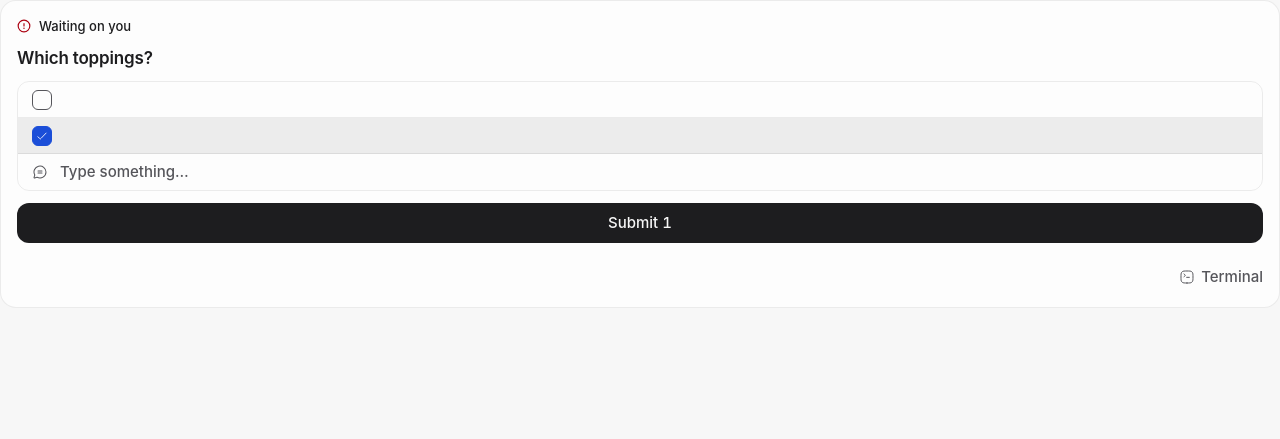
Scenario: QuestionCard › keeps one commit on the card while a reply is written: its Send, not the multi-select's Submit
Expected: the button "Submit 1" is shown, left=17, top=203, right=1263, bottom=243
Click the button "Type something…" at (124, 172), box left=18, top=154, right=1262, bottom=190
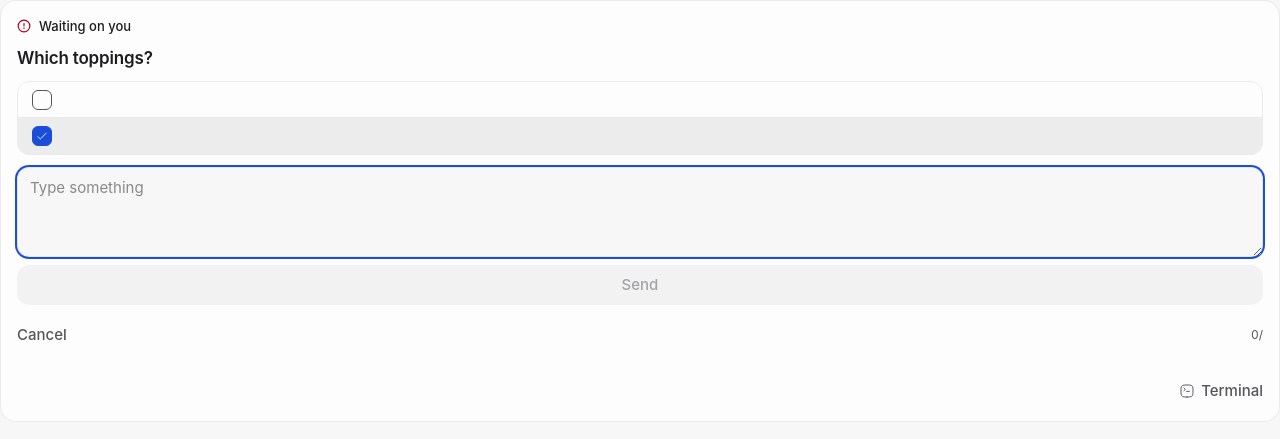
Type "Pineapple" into the text box labelled "Type something" at (640, 212), box left=17, top=167, right=1263, bottom=257
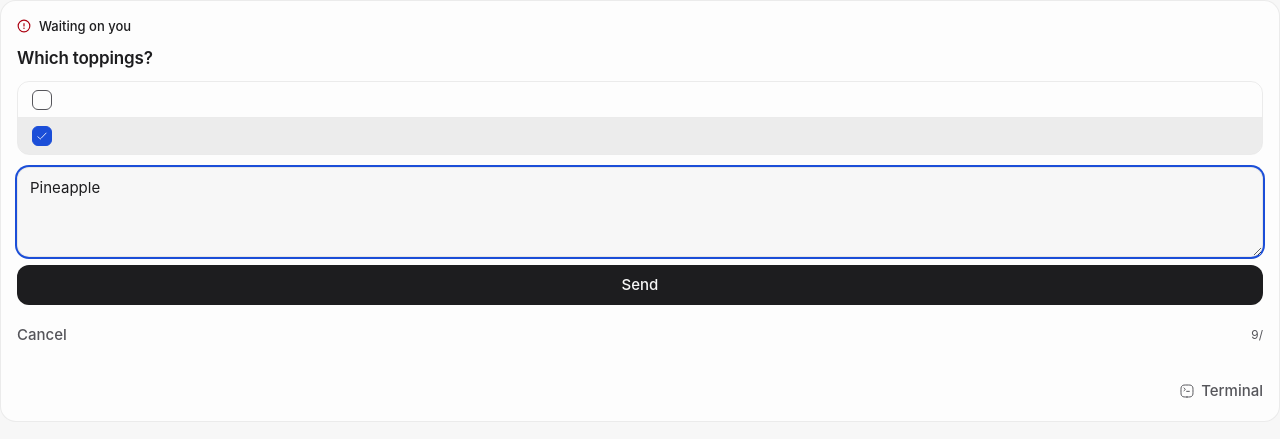
Expected: the button "Submit" is not shown
Click the button "Cancel" at (42, 335), box left=9, top=313, right=75, bottom=357
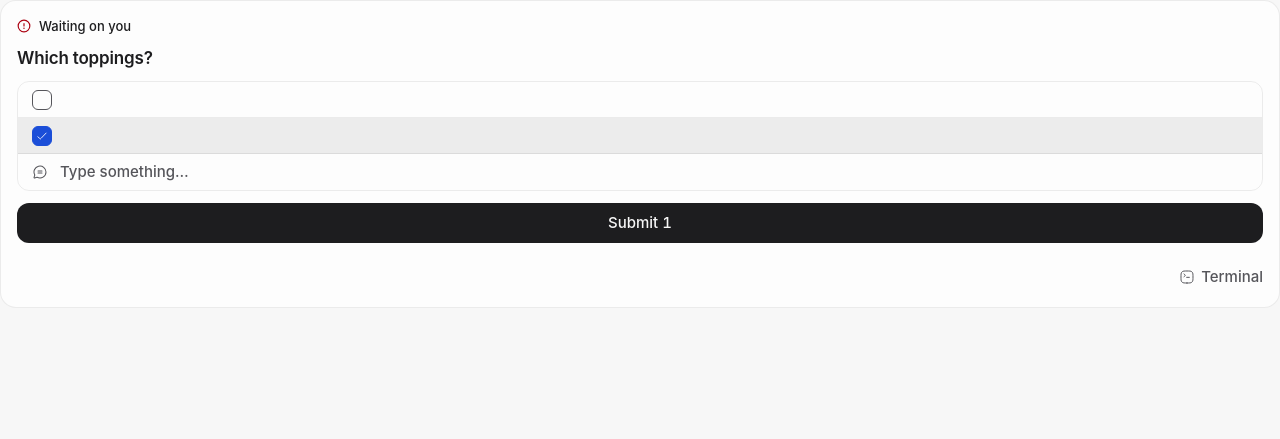
Now the button "Submit 1" is shown, box left=17, top=203, right=1263, bottom=243
